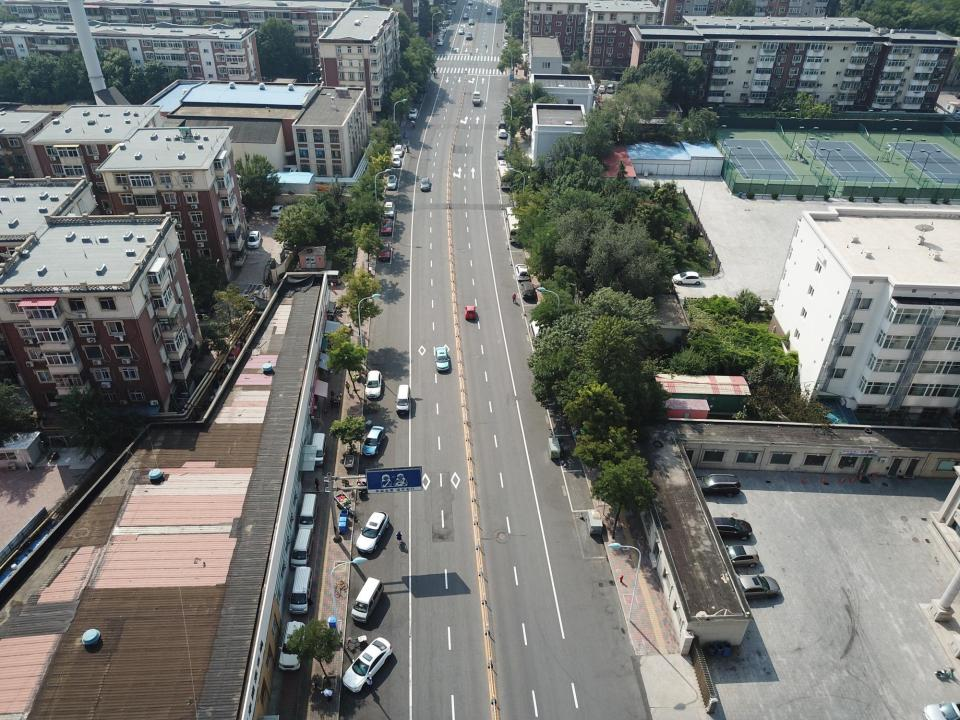bus: (506, 214, 526, 242), (497, 166, 511, 187), (418, 73, 431, 92)
car: (343, 637, 392, 692), (725, 572, 780, 601), (356, 510, 389, 554), (278, 620, 306, 671), (702, 516, 753, 542), (711, 544, 760, 568), (692, 473, 740, 497), (921, 701, 960, 720), (362, 426, 385, 456), (364, 370, 382, 398), (433, 347, 450, 372), (673, 271, 702, 285), (519, 282, 536, 300), (246, 230, 262, 248), (515, 263, 529, 281), (378, 241, 390, 261), (380, 218, 392, 236), (383, 202, 394, 218), (464, 306, 477, 319), (270, 205, 284, 217), (386, 175, 397, 189), (420, 177, 430, 192), (391, 154, 400, 168), (393, 144, 403, 156), (497, 160, 508, 170), (408, 108, 418, 119), (498, 128, 507, 138), (498, 149, 506, 159), (498, 120, 506, 130), (598, 85, 606, 93), (416, 93, 422, 102), (466, 32, 472, 40), (463, 13, 469, 20), (458, 28, 464, 34), (468, 20, 474, 26), (486, 9, 492, 15), (468, 0, 473, 5), (452, 0, 458, 4)
truck: (472, 91, 480, 105)
van: (350, 577, 384, 623), (288, 566, 312, 614), (290, 528, 313, 570), (298, 493, 318, 532), (309, 433, 326, 466), (528, 318, 546, 345), (395, 384, 410, 415), (315, 270, 341, 285), (504, 207, 516, 220), (607, 84, 614, 94)
